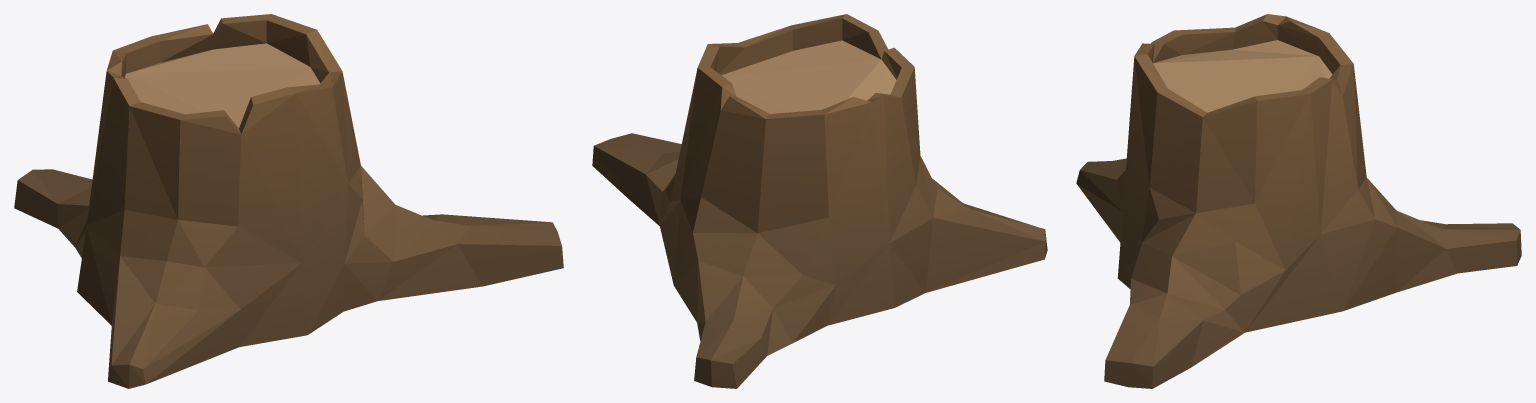
The model's file is Mesh_Nature_Stump_01.FBX.
3 views of the same model, side by side, from view 1: azimuth 30°, elevation 25°; view 2: azimuth 150°, elevation 25°; view 3: azimuth 270°, elevation 25° (orthographic). The views are drawn at different scales.
Parts seen in each view (by area): view 1: Mesh_Nature_Stump_01; view 2: Mesh_Nature_Stump_01; view 3: Mesh_Nature_Stump_01.
Part boxes in pixels (x1=…): Mesh_Nature_Stump_01: x1=14, y1=14, x2=563, y2=388; Mesh_Nature_Stump_01: x1=592, y1=14, x2=1047, y2=388; Mesh_Nature_Stump_01: x1=1076, y1=14, x2=1521, y2=388.
Size of the model in its own units: 59.57 by 29.46 by 52.09.
